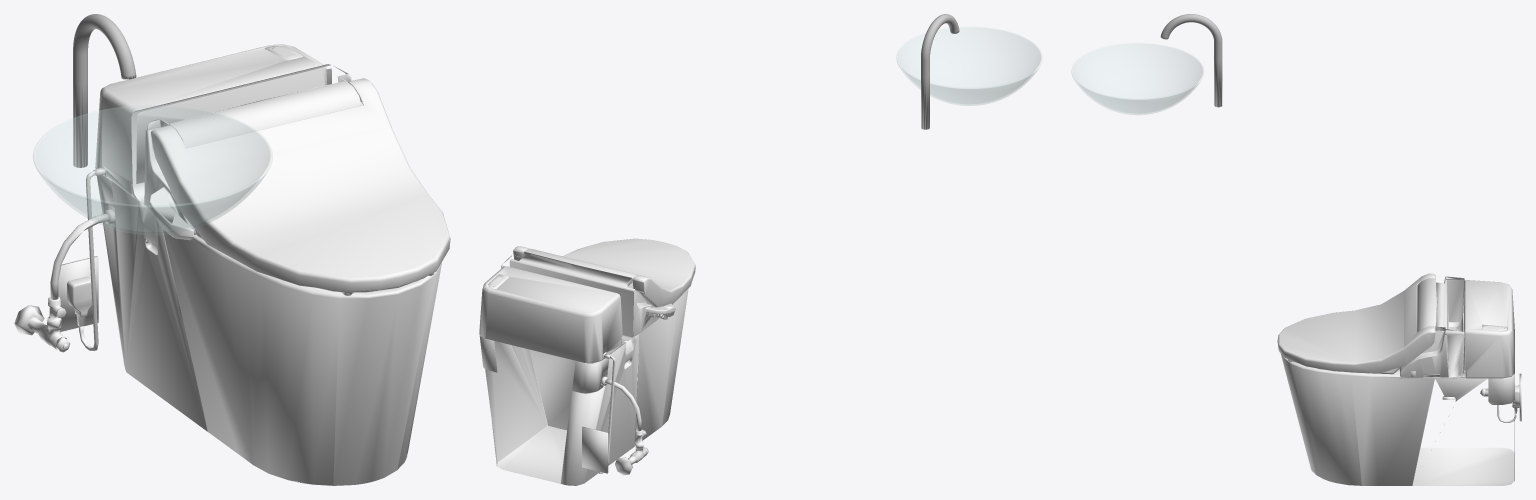
The model's file is equipment.glb.
3 views of the same model, side by side, from view 1: azimuth 30°, elevation 25°; view 2: azimuth 150°, elevation 25°; view 3: azimuth 270°, elevation 25° (orthographic). The views are drawn at different scales.
Parts seen in each view (by area): view 1: EQUIPMENT016, EQUIPMENT024, EQUIPMENT013, EQUIPMENT022, EQUIPMENT008, EQUIPMENT015, EQUIPMENT003, EQUIPMENT019, EQUIPMENT014, EQUIPMENT010, EQUIPMENT004; view 2: EQUIPMENT016, EQUIPMENT013, EQUIPMENT024, EQUIPMENT022, EQUIPMENT008, EQUIPMENT003, EQUIPMENT015; view 3: EQUIPMENT016, EQUIPMENT024, EQUIPMENT013, EQUIPMENT022, EQUIPMENT008.
Part boxes in pixels (left/top/right/bottom): EQUIPMENT016: left=95, top=44, right=441, bottom=485; EQUIPMENT024: left=151, top=78, right=450, bottom=291; EQUIPMENT013: left=33, top=105, right=272, bottom=234; EQUIPMENT022: left=131, top=64, right=361, bottom=240; EQUIPMENT008: left=73, top=14, right=136, bottom=167; EQUIPMENT015: left=14, top=297, right=70, bottom=352; EQUIPMENT003: left=58, top=256, right=98, bottom=331; EQUIPMENT019: left=79, top=171, right=98, bottom=350; EQUIPMENT014: left=50, top=213, right=108, bottom=299; EQUIPMENT010: left=67, top=276, right=92, bottom=326; EQUIPMENT004: left=150, top=188, right=175, bottom=223; EQUIPMENT016: left=479, top=266, right=688, bottom=485; EQUIPMENT013: left=896, top=27, right=1042, bottom=105; EQUIPMENT024: left=513, top=238, right=695, bottom=306; EQUIPMENT022: left=501, top=248, right=675, bottom=340; EQUIPMENT008: left=921, top=14, right=959, bottom=129; EQUIPMENT003: left=582, top=427, right=608, bottom=473; EQUIPMENT015: left=615, top=429, right=648, bottom=475; EQUIPMENT016: left=1280, top=280, right=1514, bottom=485; EQUIPMENT024: left=1277, top=273, right=1435, bottom=373; EQUIPMENT013: left=1071, top=43, right=1203, bottom=114; EQUIPMENT022: left=1400, top=276, right=1464, bottom=377; EQUIPMENT008: left=1160, top=14, right=1222, bottom=107.
Size of the model in its own units: 1.12 by 1.16 by 1.35.
